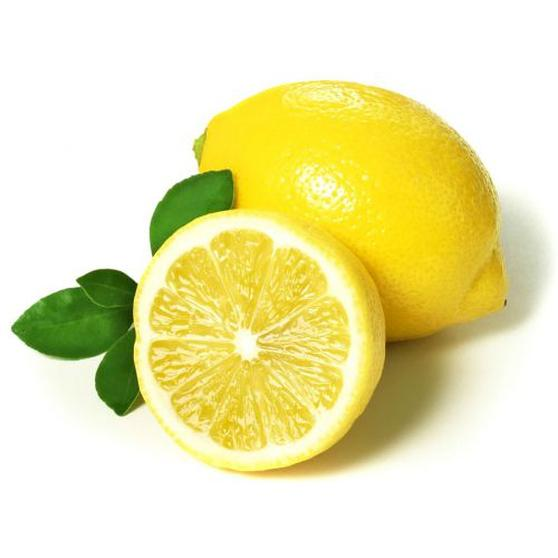lemon: (190, 63, 527, 356)
